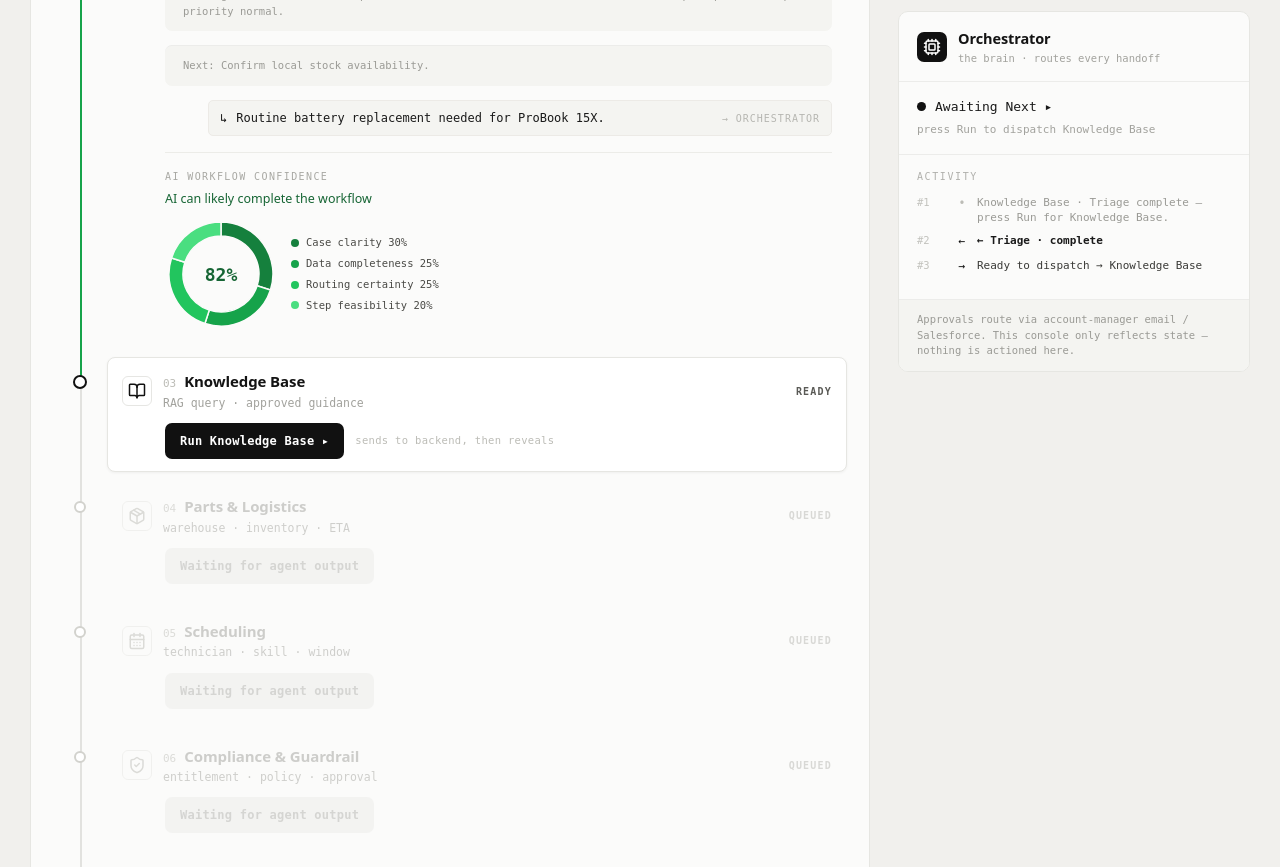
SteppedOrchestrationView — Phase 2 (real stepped run) › shows Receiving in the sidebar during completion animation
(page scrolled)
Click the button "Run Knowledge Base ▸" at (255, 441), box [165, 423, 344, 459]
Wait 2000 ms
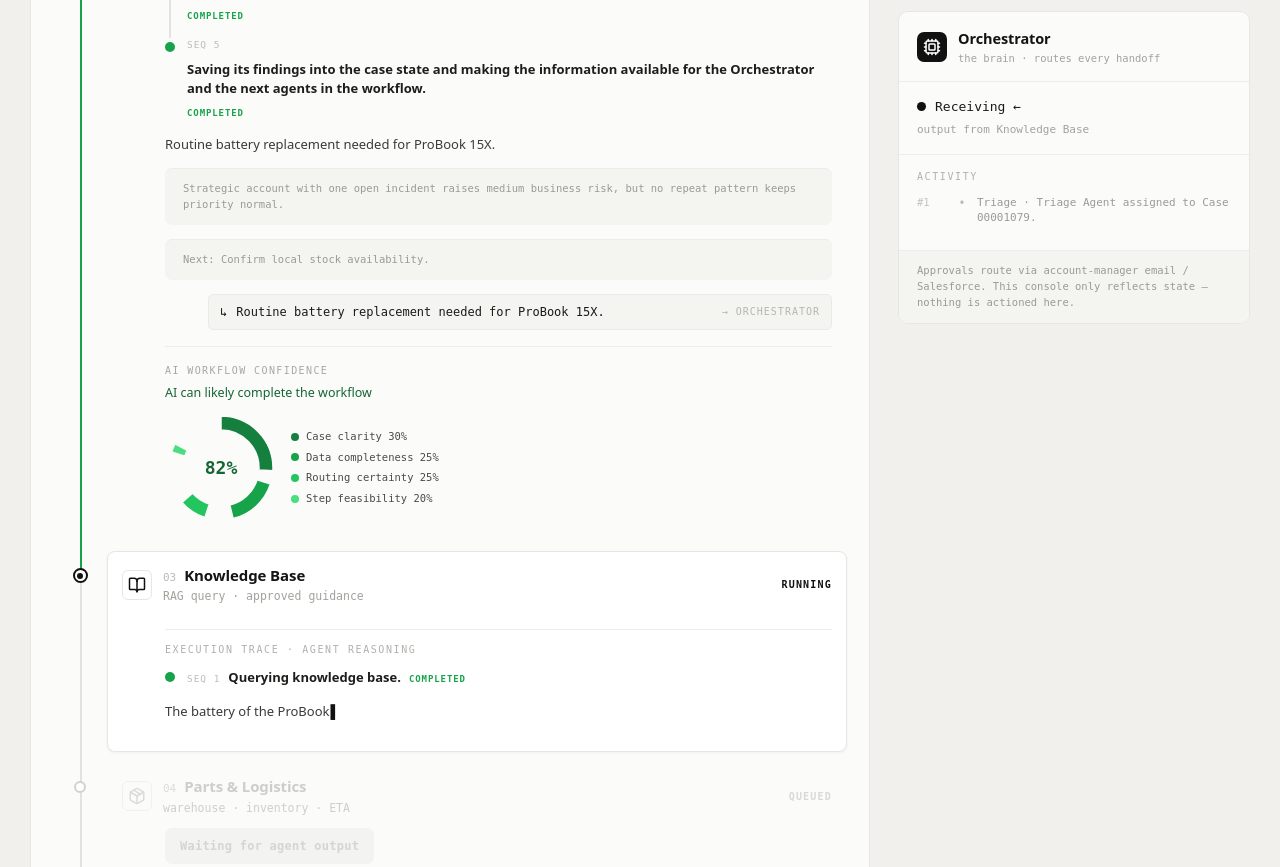
Result: the text "Receiving ←" is shown at [935, 96, 1021, 116]
